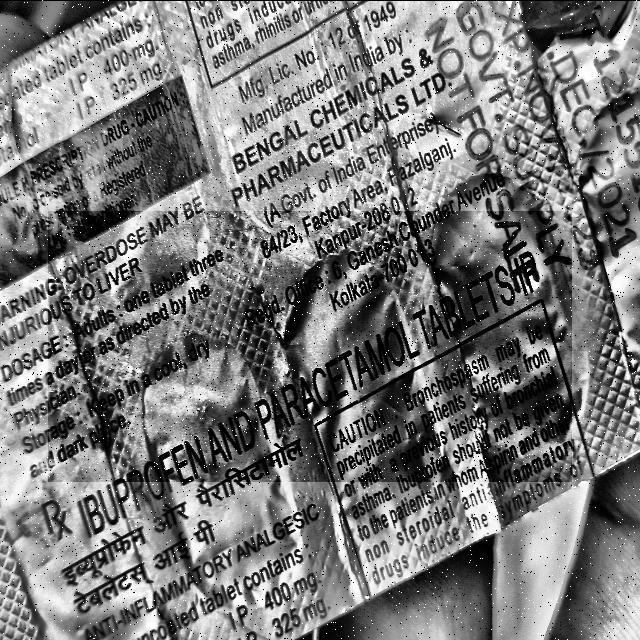IBUPROFEN AND PARACETAMOL TABLETS: (48, 210, 572, 481)
